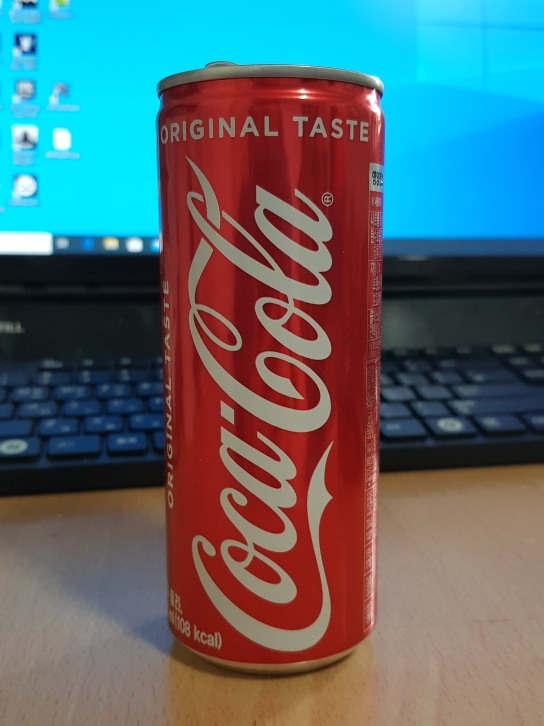Can: (152, 59, 393, 677)
